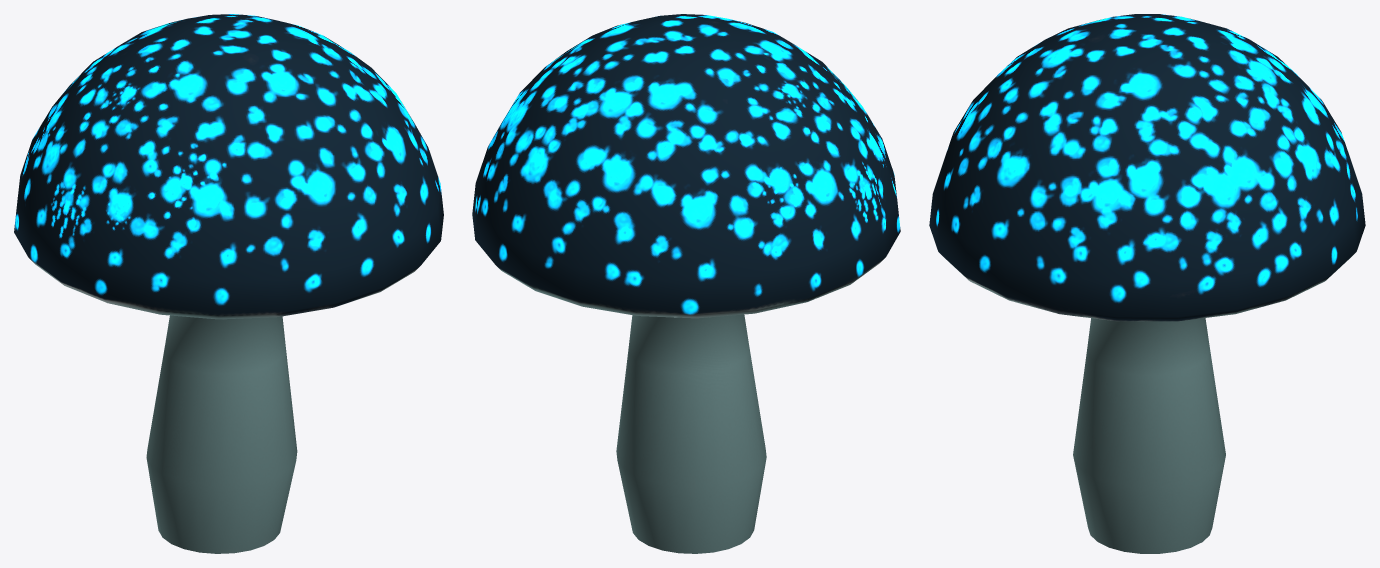
The model's file is glowing_mushroom_01.glb.
3 views of the same model, side by side, from view 1: azimuth 30°, elevation 25°; view 2: azimuth 150°, elevation 25°; view 3: azimuth 270°, elevation 25° (orthographic).
Parts seen in each view (by area): view 1: Object_2; view 2: Object_2; view 3: Object_2.
Part boxes in pixels (left/top/right/bottom): Object_2: left=14, top=14, right=443, bottom=553; Object_2: left=472, top=14, right=900, bottom=553; Object_2: left=929, top=14, right=1365, bottom=553.
Bounding box in the file's own units: 1.97 × 2.49 × 1.99.
1 material, 1 textured.
